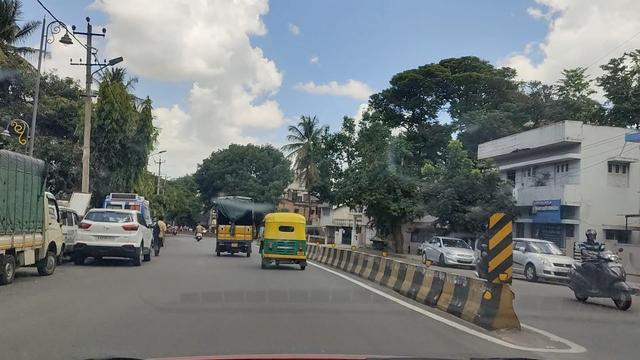HMV: (218, 198, 256, 254)
LMV: (78, 211, 148, 263), (267, 213, 303, 265)
